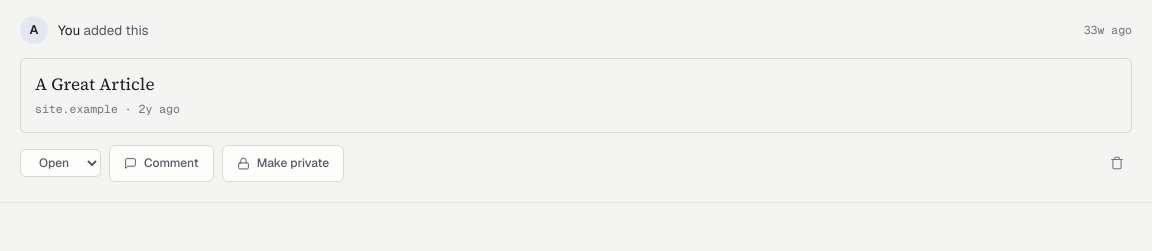
Test case: <ProjectPinCard> › surfaces API errors
Step 1. Click the button titled "Remove from project" → [1117, 164], box [1102, 148, 1132, 178]
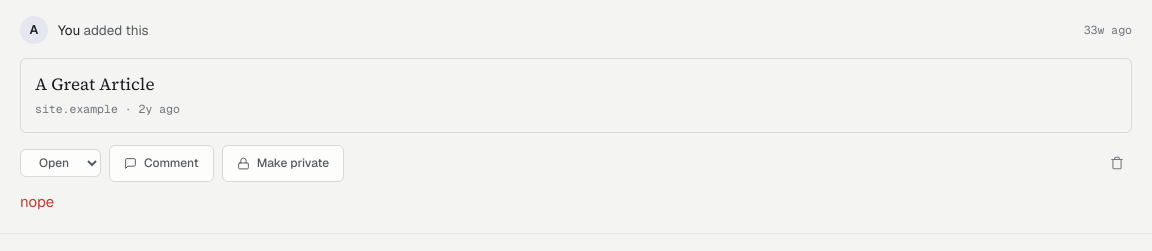
Now the text "nope" is shown, box [20, 192, 54, 211]
